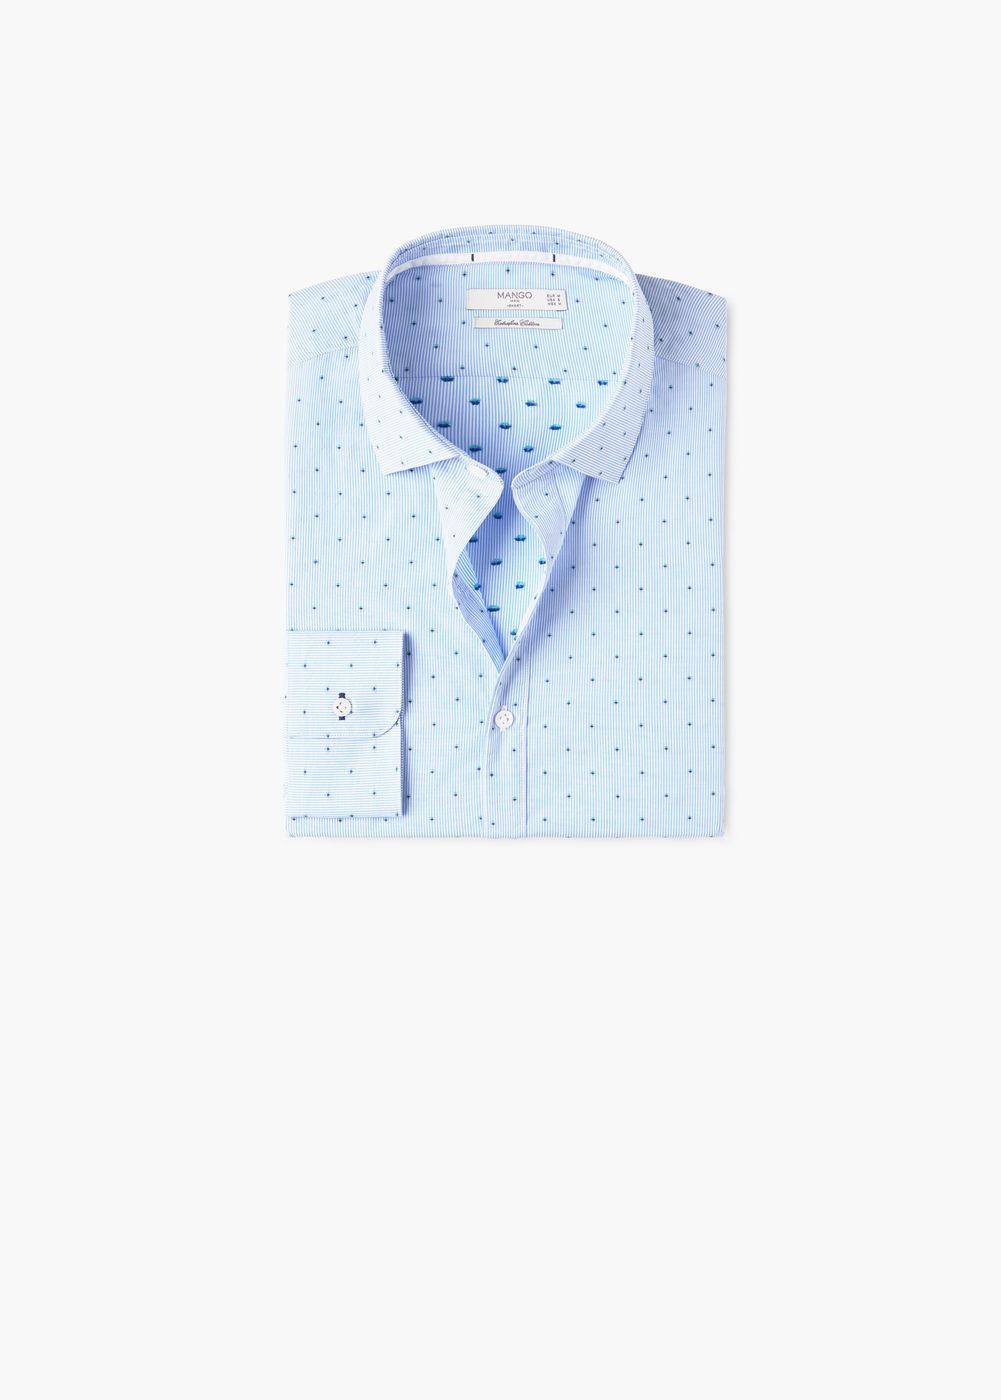teeshirt: (250, 214, 750, 855)
